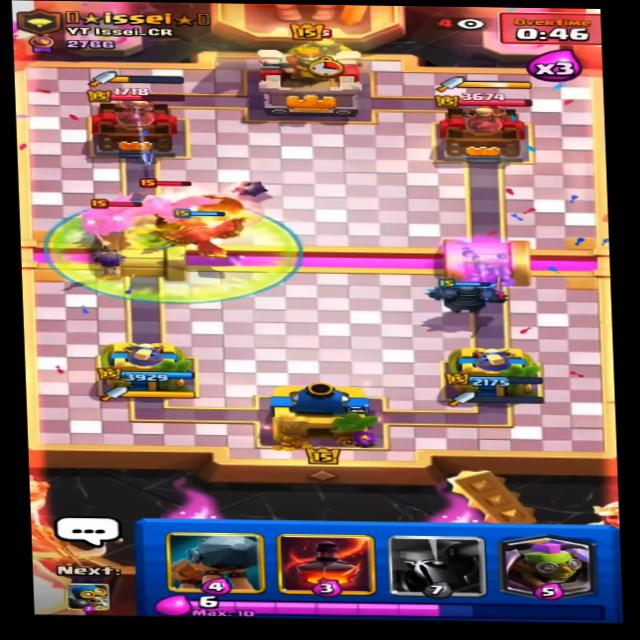goblin-demolisher: (291, 29, 364, 60)
pekka: (78, 192, 172, 237)
phoenix: (119, 180, 221, 231)
